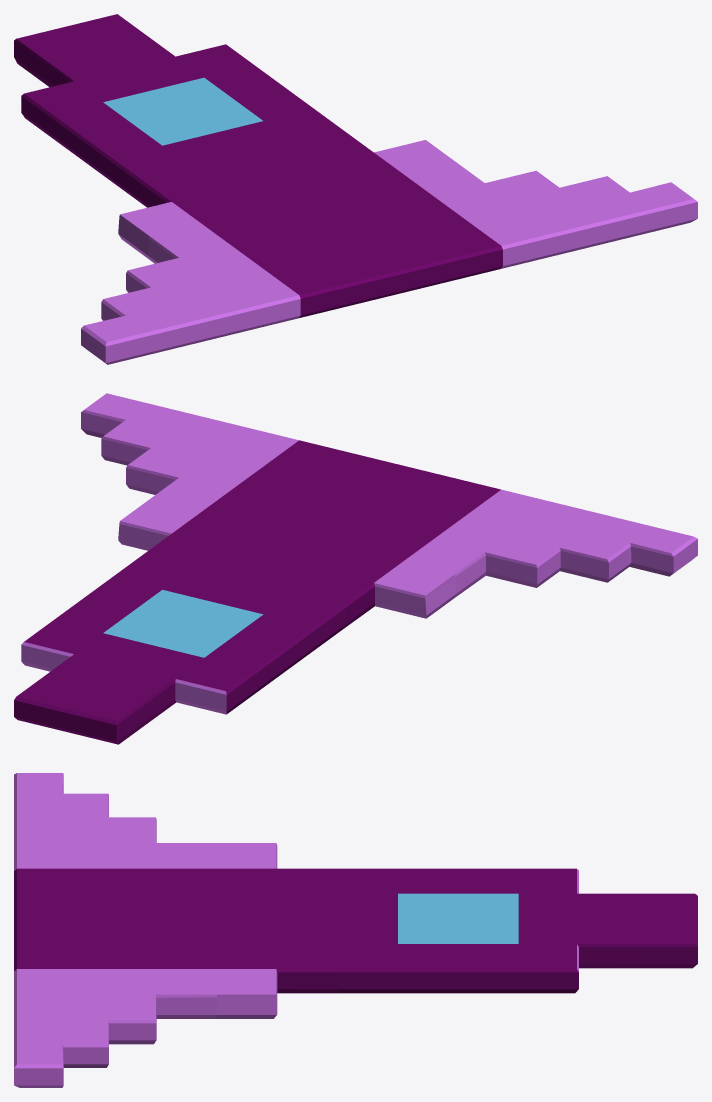
File: Nave 3 la buena.fbx
The picture shows the model from 3 angles, top to bottom: view 1: azimuth 30°, elevation 25°; view 2: azimuth 150°, elevation 25°; view 3: azimuth 270°, elevation 25°; orthographic projection.
Visible parts, largest first — view 1: Nave 3; view 2: Nave 3; view 3: Nave 3.
Boxes of the visible parts, bbox=[...] form: Nave 3: bbox=[14, 14, 697, 364]; Nave 3: bbox=[14, 393, 697, 744]; Nave 3: bbox=[14, 773, 697, 1087].
Bounding box in the file's own units: 782 × 30.5 × 769.
